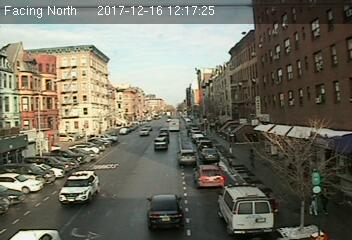car: (145, 193, 184, 229), (192, 164, 224, 188), (179, 148, 198, 166), (201, 147, 219, 163), (154, 136, 168, 149)
police: (219, 183, 276, 235), (58, 169, 100, 206)
